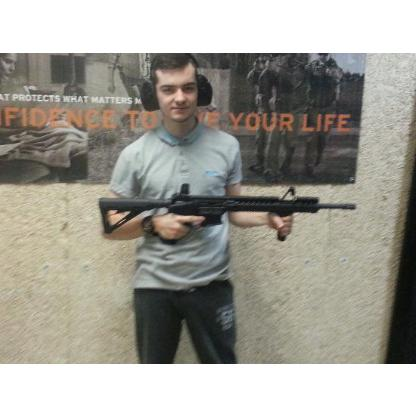gun: (96, 184, 358, 244)
